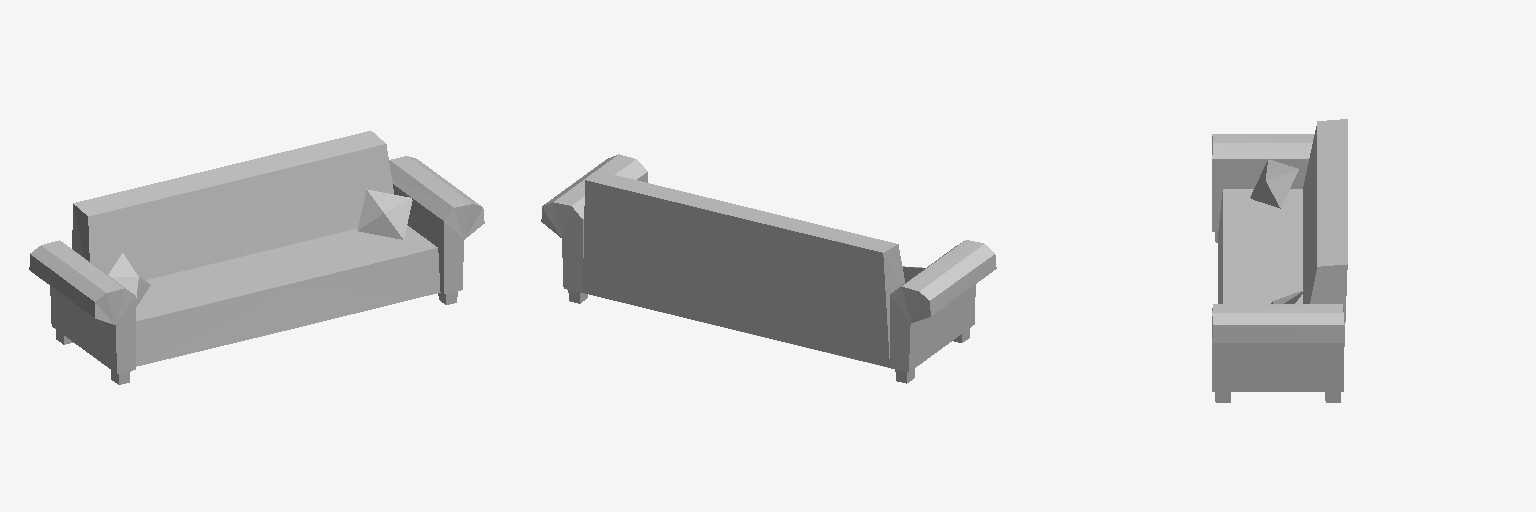
File: couch.obj
The picture shows the model from 3 angles: view 1: azimuth 30°, elevation 25°; view 2: azimuth 150°, elevation 25°; view 3: azimuth 270°, elevation 25°; orthographic projection.
Visible parts, largest first — view 1: couch_fabric4.bmp; view 2: couch_fabric4.bmp; view 3: couch_fabric4.bmp.
Boxes of the visible parts, box(x1,y1,x2,y2) form: couch_fabric4.bmp: box(29, 131, 484, 384); couch_fabric4.bmp: box(541, 154, 996, 383); couch_fabric4.bmp: box(1212, 119, 1347, 402).
Size of the model in its own units: 13.72 by 4.33 by 4.13.